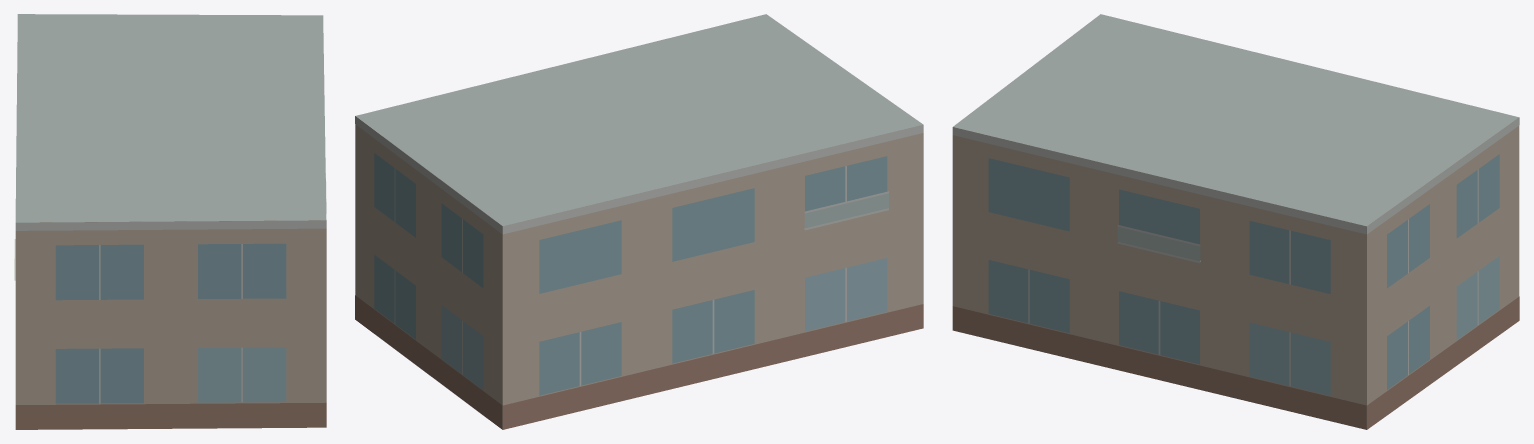
Rendered from survey-upis-32739134.glb.
The picture shows the model from 3 angles, left to right: view 1: azimuth 30°, elevation 25°; view 2: azimuth 150°, elevation 25°; view 3: azimuth 270°, elevation 25°; orthographic projection.
Visible parts, largest first — view 1: survey-upis-32739134.tmp; view 2: survey-upis-32739134.tmp; view 3: survey-upis-32739134.tmp.
Part boxes in pixels (left/top/right/bottom): survey-upis-32739134.tmp: left=14, top=14, right=326, bottom=429; survey-upis-32739134.tmp: left=355, top=14, right=923, bottom=429; survey-upis-32739134.tmp: left=952, top=14, right=1519, bottom=429.
Bounding box in the file's own units: 13.66 × 6.1 × 15.41.
